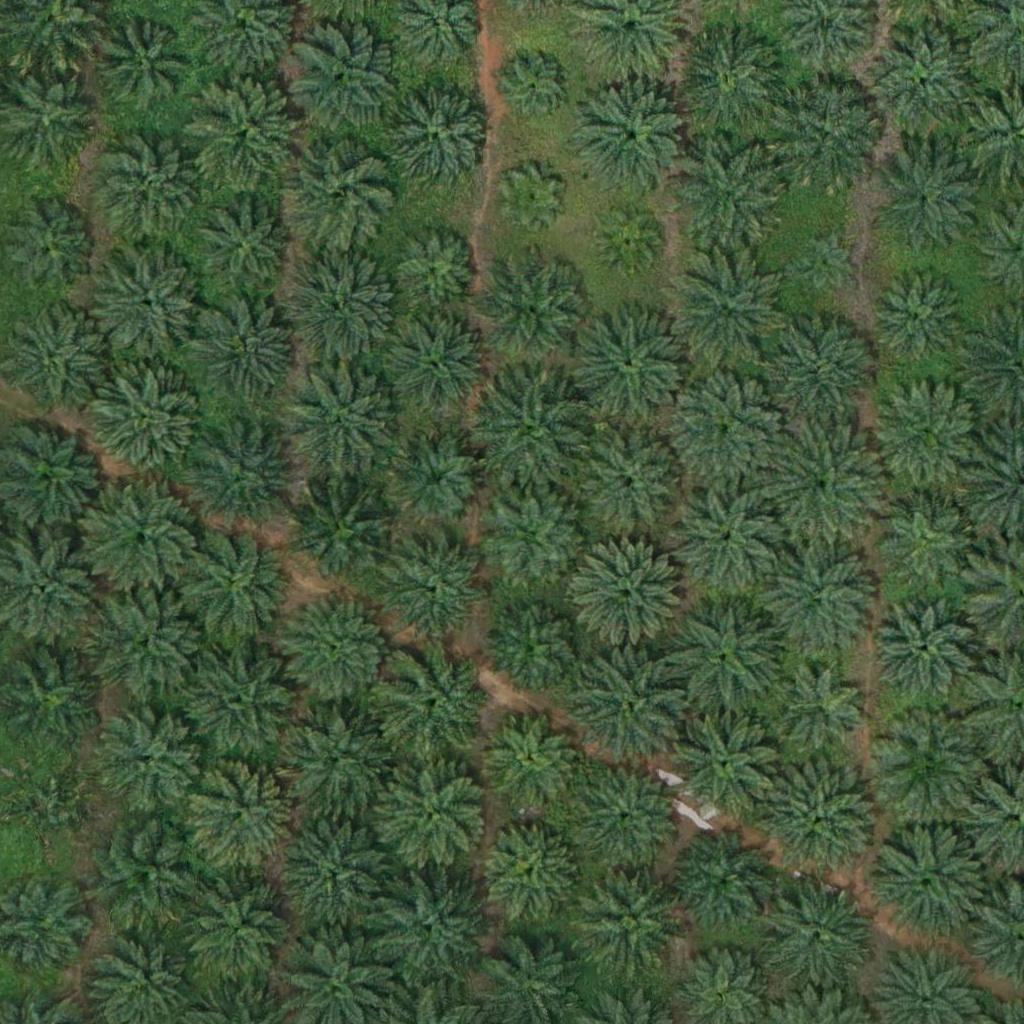Kelapa_Sawit: (870, 147, 983, 261), (289, 475, 402, 589), (174, 527, 287, 641), (281, 593, 394, 707), (379, 646, 492, 760), (376, 757, 489, 871), (868, 28, 981, 141), (667, 249, 780, 362), (671, 372, 784, 485), (576, 83, 689, 196), (573, 309, 686, 422), (281, 138, 394, 251), (285, 251, 398, 364), (286, 366, 399, 479), (186, 76, 299, 189), (188, 196, 301, 309), (89, 824, 202, 937), (277, 706, 390, 819), (573, 539, 686, 652), (666, 484, 779, 597), (669, 598, 782, 711), (670, 703, 783, 816), (764, 763, 877, 876), (874, 822, 987, 935), (761, 879, 874, 992), (374, 873, 487, 986), (770, 82, 882, 196), (673, 25, 785, 139), (184, 415, 296, 529), (94, 246, 206, 360), (90, 367, 202, 481), (571, 864, 683, 978), (871, 380, 983, 493), (765, 314, 877, 427), (767, 427, 879, 540), (676, 138, 788, 251), (573, 428, 685, 541), (477, 255, 589, 368), (476, 377, 588, 490), (385, 82, 497, 195), (379, 313, 491, 426), (285, 23, 397, 136), (189, 298, 301, 411), (95, 130, 207, 243), (85, 482, 197, 595), (90, 586, 202, 699), (91, 704, 203, 817), (186, 645, 298, 758), (187, 760, 299, 873), (284, 813, 396, 926), (571, 652, 683, 765), (569, 762, 681, 875), (761, 545, 873, 658), (873, 708, 985, 821), (182, 876, 294, 989), (387, 430, 487, 531), (92, 14, 192, 115), (487, 485, 587, 586), (488, 595, 588, 696), (672, 830, 772, 931), (772, 663, 872, 764), (876, 485, 976, 586), (872, 596, 972, 697), (867, 266, 967, 366), (390, 535, 490, 635), (486, 710, 586, 810), (482, 822, 582, 922), (391, 223, 479, 311), (12, 766, 99, 855), (597, 210, 660, 273), (505, 56, 568, 119), (500, 167, 563, 230), (794, 230, 856, 293)
